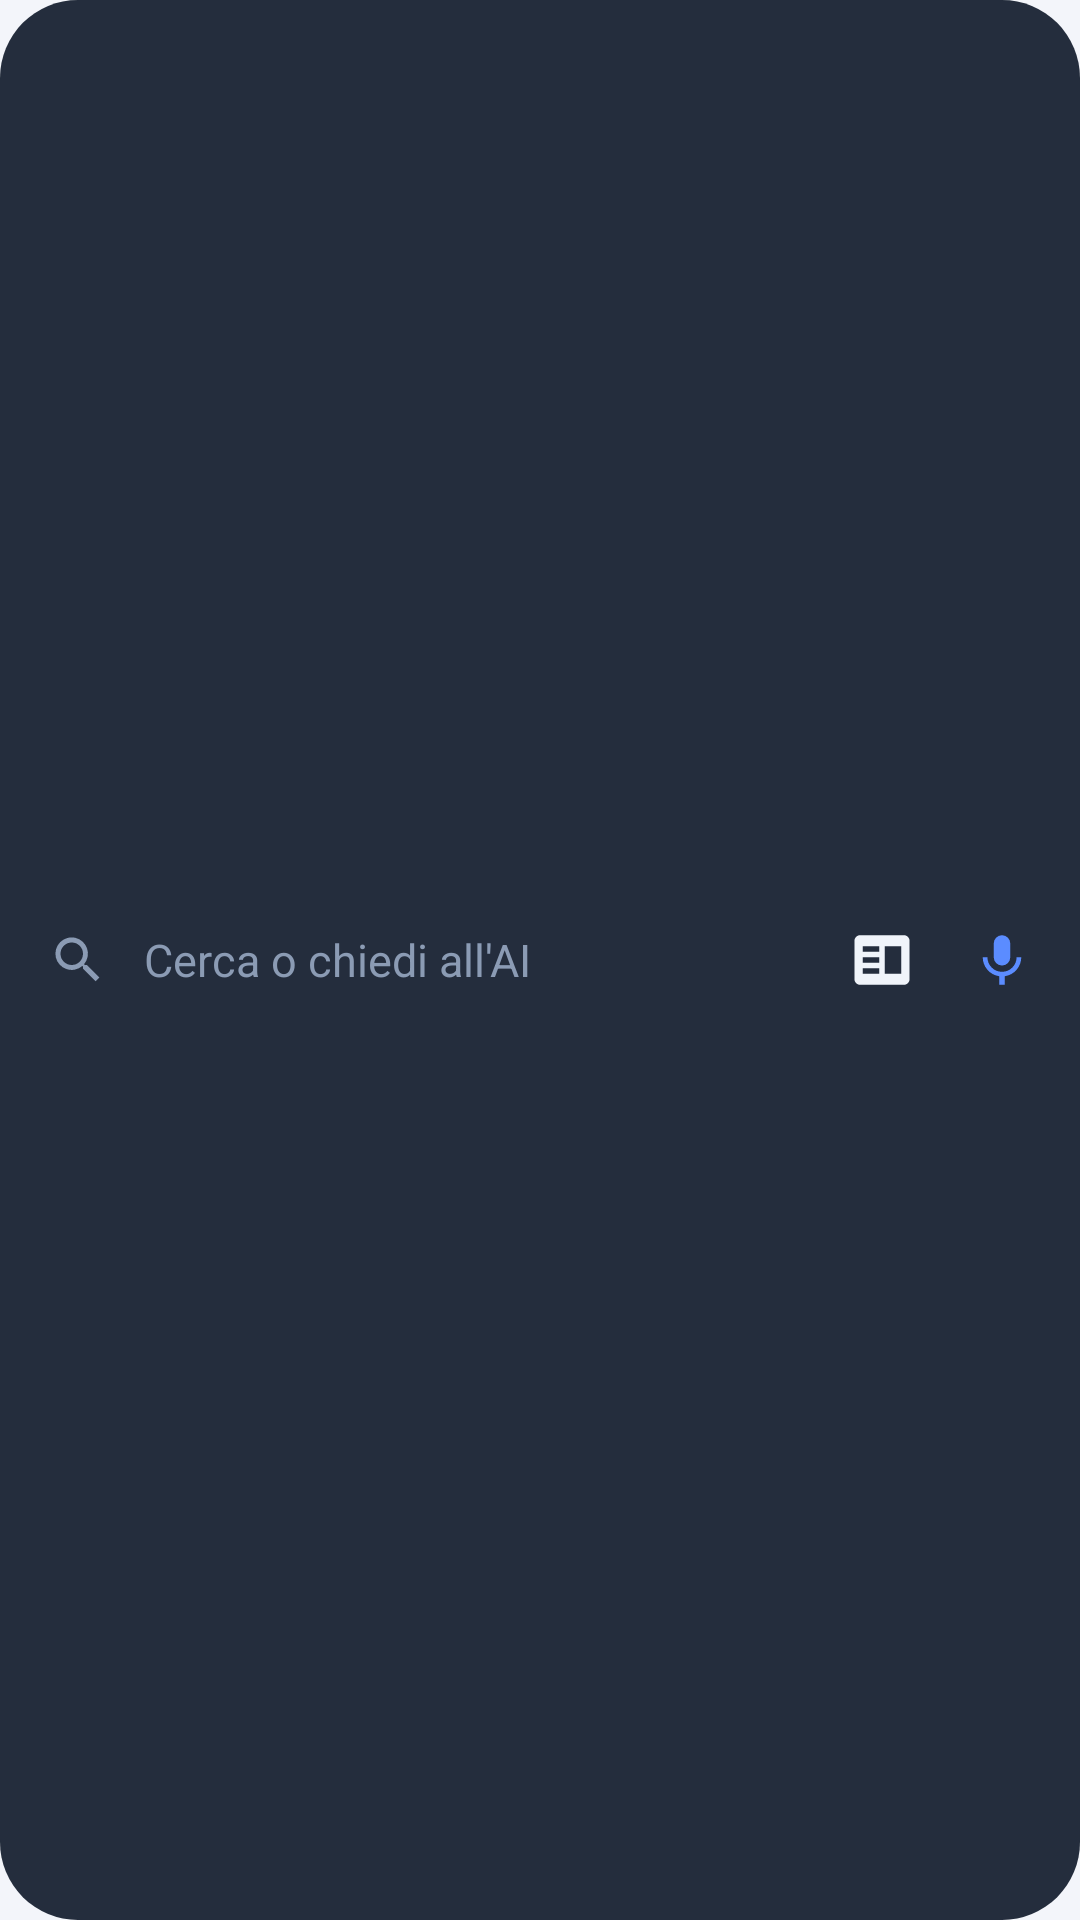

Screen size 1080 x 1920. Icon name, then its center in pixels as point (x, y):
mic: point (1002, 960)
news: point (882, 960)
search: point (77, 959)
